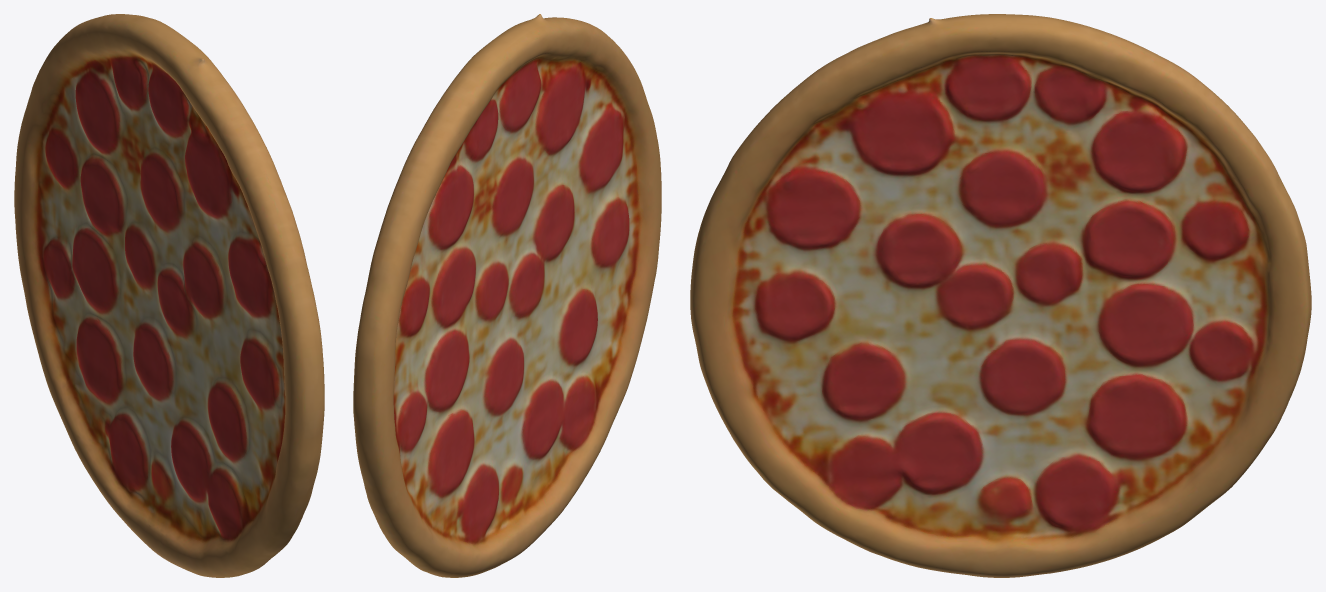
The model's file is f3a3cff81d0b_4178fee0689d_pizza__3d_asset_0_g.glb.
The picture shows the model from 3 angles, left to right: view 1: azimuth 30°, elevation 25°; view 2: azimuth 150°, elevation 25°; view 3: azimuth 270°, elevation 25°; orthographic projection. The views are drawn at different scales.
Parts seen in each view (by area): view 1: high_poly; view 2: high_poly; view 3: high_poly.
Part boxes in pixels (x1,y1,x2,y2): high_poly: (14, 14, 324, 577); high_poly: (353, 14, 661, 577); high_poly: (690, 14, 1311, 577).
Bounding box in the file's own units: 0.068 × 0.9935 × 1.
1 material, 1 textured.
